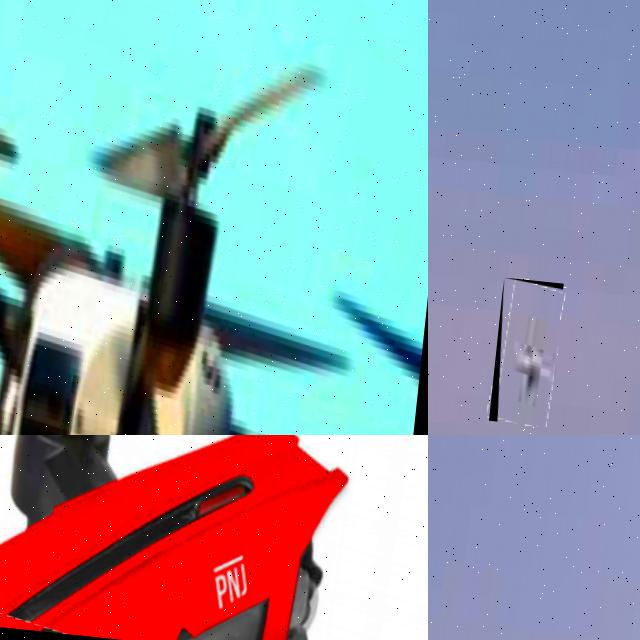0: (489, 278, 563, 427)
drone: (0, 0, 428, 435), (0, 435, 428, 640)
